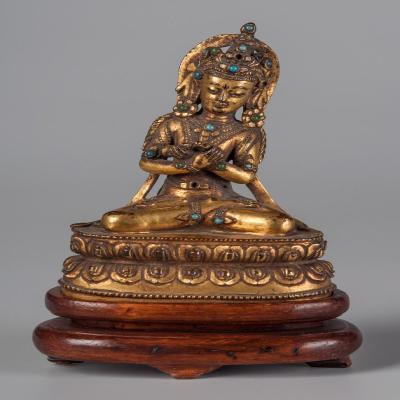sculpture: (34, 24, 363, 380)
